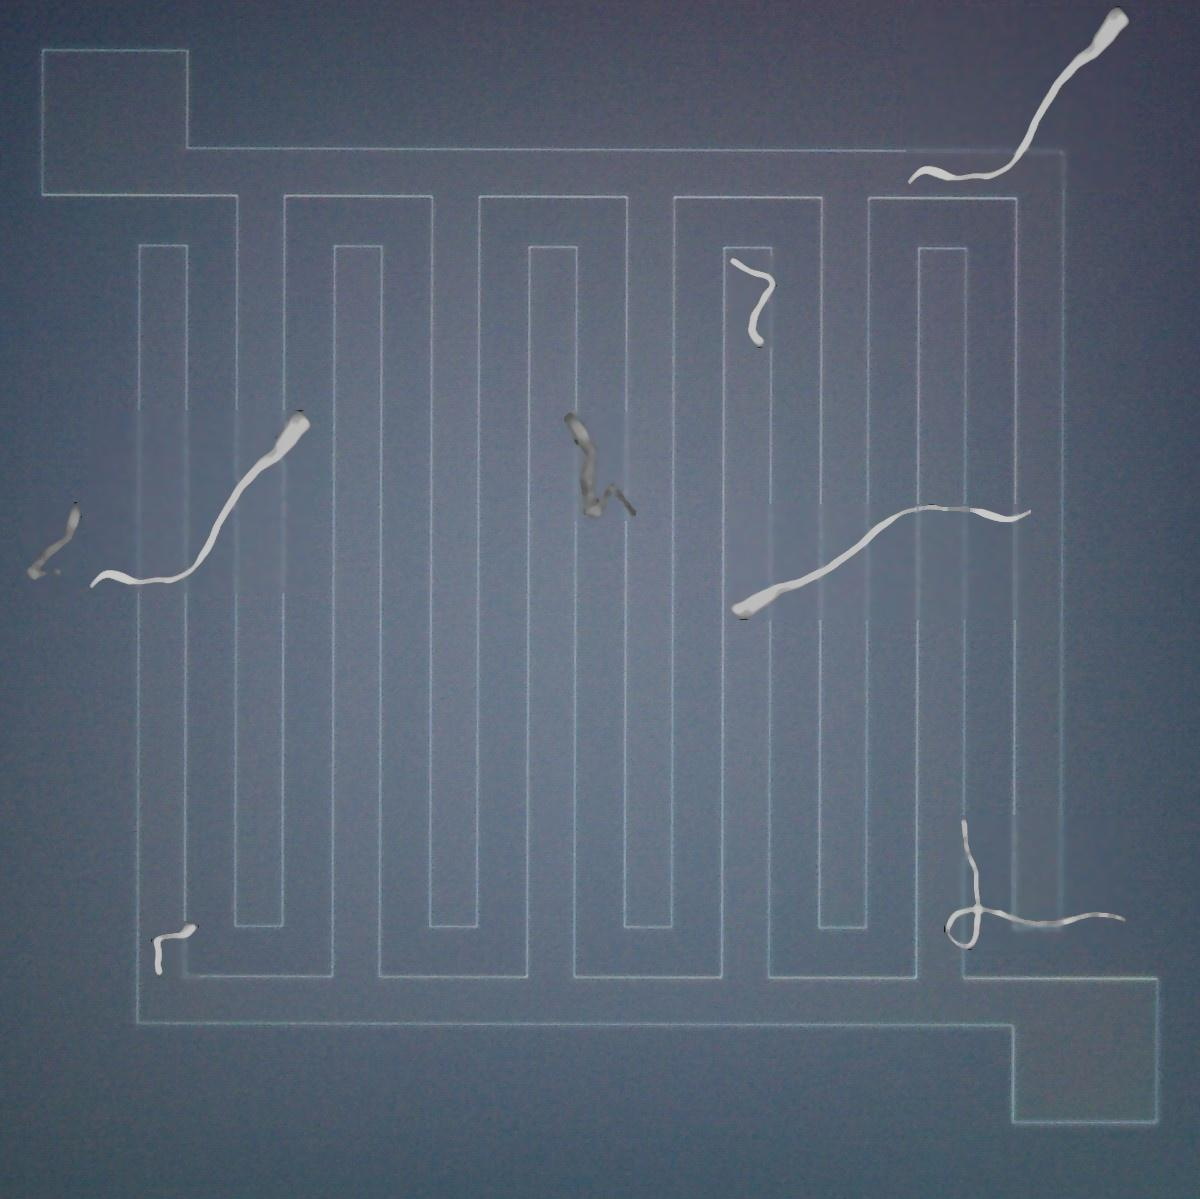foreign: (721, 493, 1042, 637), (85, 406, 318, 599), (901, 4, 1133, 197), (942, 813, 1136, 955), (557, 402, 647, 525), (721, 251, 785, 359), (24, 497, 85, 587), (142, 916, 210, 982)
